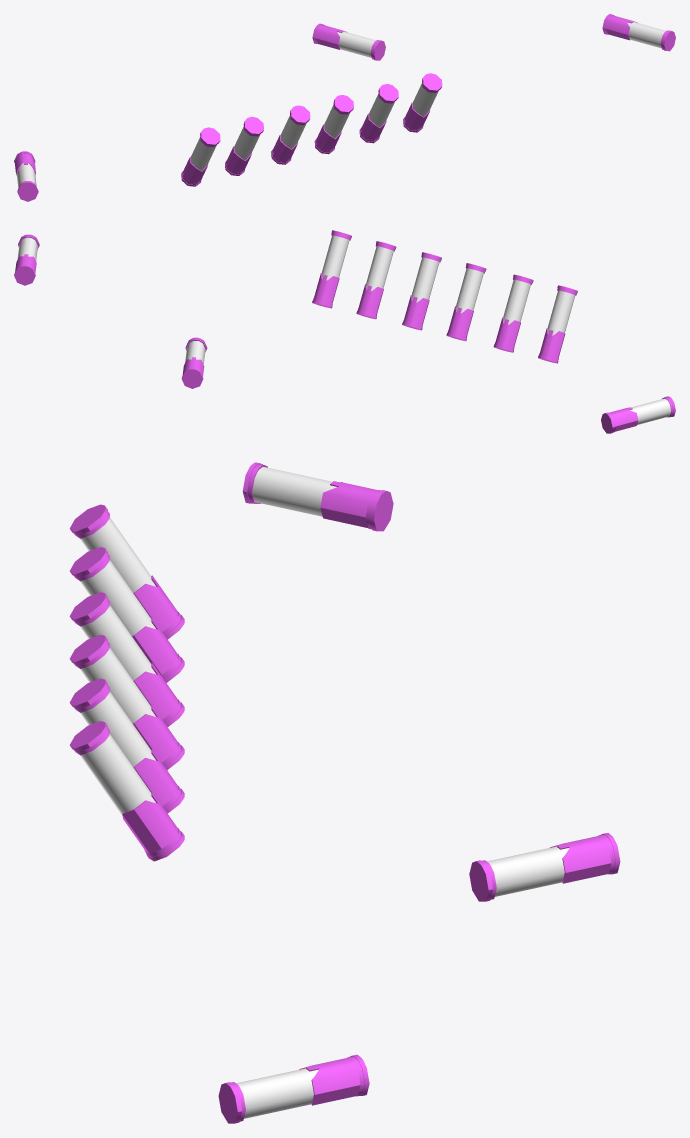
File: capsulatumb1.fbx
The picture shows the model from 3 angles, top to bottom: view 1: azimuth 30°, elevation 25°; view 2: azimuth 150°, elevation 25°; view 3: azimuth 270°, elevation 25°; orthographic projection. The views are drawn at different scales.
Visible parts, largest first — view 1: Capsula_007, Capsula_008, Capsula_01, Capsula_004, Capsula_00, Capsula_002, Capsula_003, Capsula_005, Capsula_006; view 2: Capsula_003, Capsula_01, Capsula_004, Capsula_006, Capsula_00, Capsula_002, Capsula_005, Capsula_007, Capsula_008; view 3: Capsula_01, Capsula_007, Capsula_008, Capsula_006, Capsula_005, Capsula_003, Capsula_004, Capsula_002, Capsula_00.
Part boxes in pixels (left/top/right/bottom): Capsula_007: left=602, top=14, right=675, bottom=51; Capsula_008: left=312, top=23, right=385, bottom=60; Capsula_01: left=403, top=73, right=442, bottom=132; Capsula_004: left=181, top=127, right=220, bottom=186; Capsula_00: left=359, top=84, right=398, bottom=143; Capsula_002: left=271, top=105, right=310, bottom=164; Capsula_003: left=314, top=95, right=353, bottom=154; Capsula_005: left=225, top=117, right=263, bottom=175; Capsula_006: left=14, top=151, right=38, bottom=201; Capsula_003: left=402, top=252, right=441, bottom=330; Capsula_01: left=312, top=230, right=351, bottom=308; Capsula_004: left=538, top=285, right=577, bottom=363; Capsula_006: left=601, top=396, right=675, bottom=433; Capsula_00: left=356, top=241, right=396, bottom=319; Capsula_002: left=446, top=263, right=486, bottom=341; Capsula_005: left=493, top=274, right=533, bottom=352; Capsula_007: left=14, top=234, right=39, bottom=285; Capsula_008: left=181, top=337, right=207, bottom=388; Capsula_01: left=69, top=721, right=184, bottom=861; Capsula_007: left=218, top=1054, right=369, bottom=1123; Capsula_008: left=469, top=833, right=620, bottom=901; Capsula_006: left=242, top=462, right=393, bottom=531; Capsula_005: left=69, top=547, right=184, bottom=682; Capsula_003: left=69, top=634, right=184, bottom=770; Capsula_004: left=69, top=504, right=184, bottom=639; Capsula_002: left=69, top=592, right=184, bottom=726; Capsula_00: left=69, top=678, right=184, bottom=813.
Bounding box in the file's own units: 2253 × 221 × 824.
